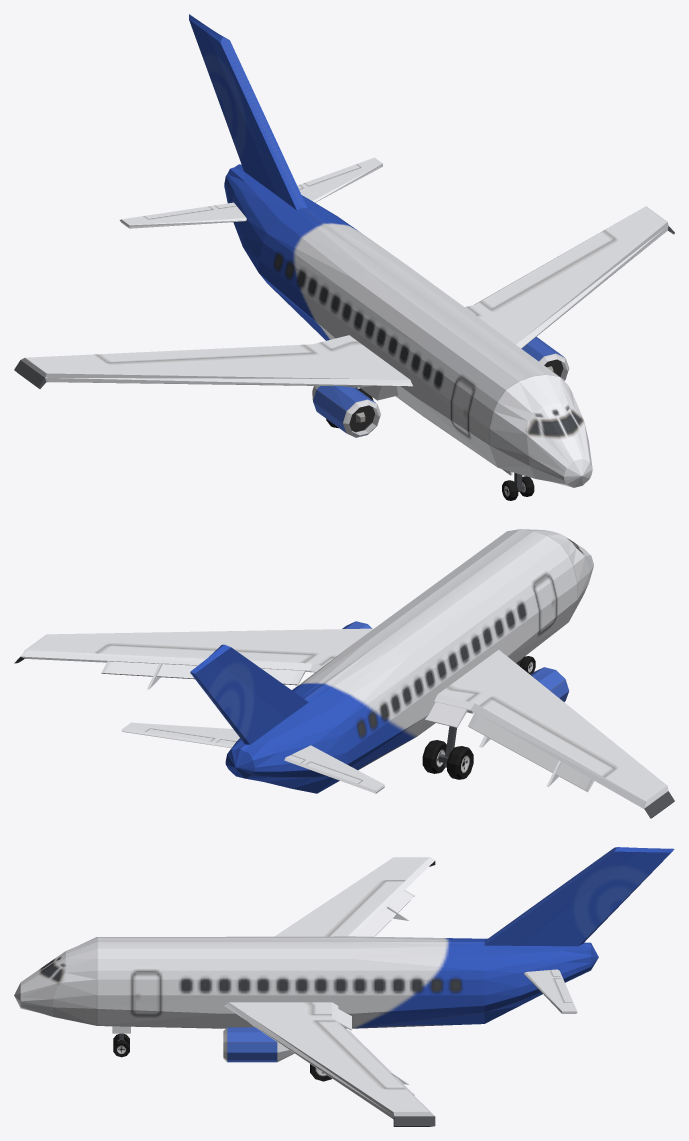
Rendered from AIRPLANE.OBJ.
The picture shows the model from 3 angles, top to bottom: view 1: azimuth 30°, elevation 25°; view 2: azimuth 150°, elevation 25°; view 3: azimuth 270°, elevation 25°; orthographic projection. The views are drawn at different scales.
Parts seen in each view (by area): view 1: Airplane1; view 2: Airplane1, Wheel5, Wheel6; view 3: Airplane1.
Boxes of the visible parts, x1=… form: Airplane1: x1=14, y1=14, x2=674, y2=491; Airplane1: x1=14, y1=529, x2=674, y2=818; Wheel5: x1=447, y1=746, x2=473, y2=779; Wheel6: x1=422, y1=740, x2=446, y2=773; Airplane1: x1=14, y1=847, x2=674, y2=1126.
Bounding box in the file's own units: 1567 × 581 × 1676.
1 material, 1 textured.
